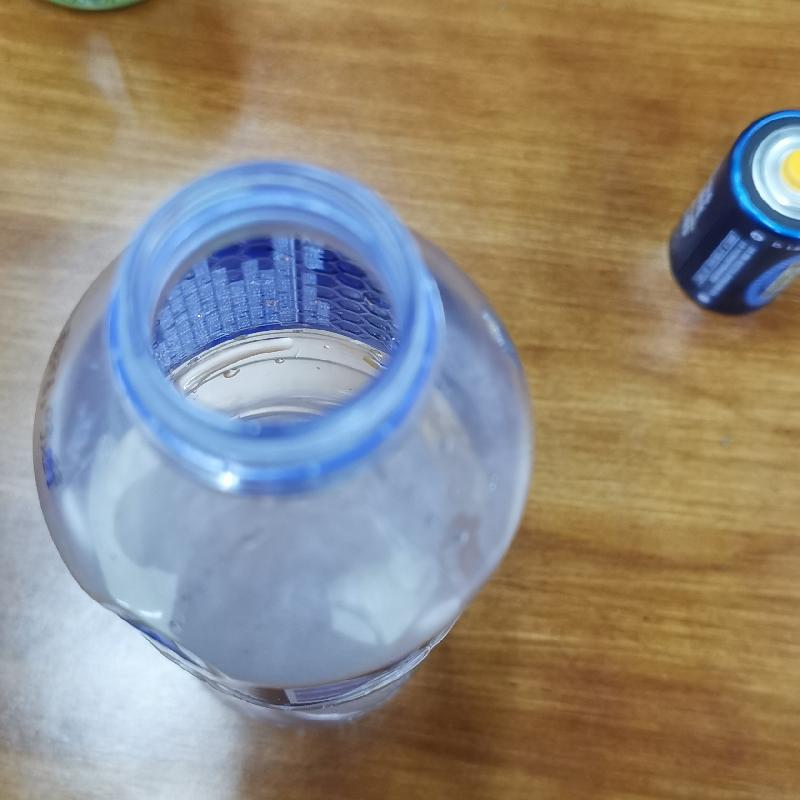bottles: (31, 152, 540, 738)
